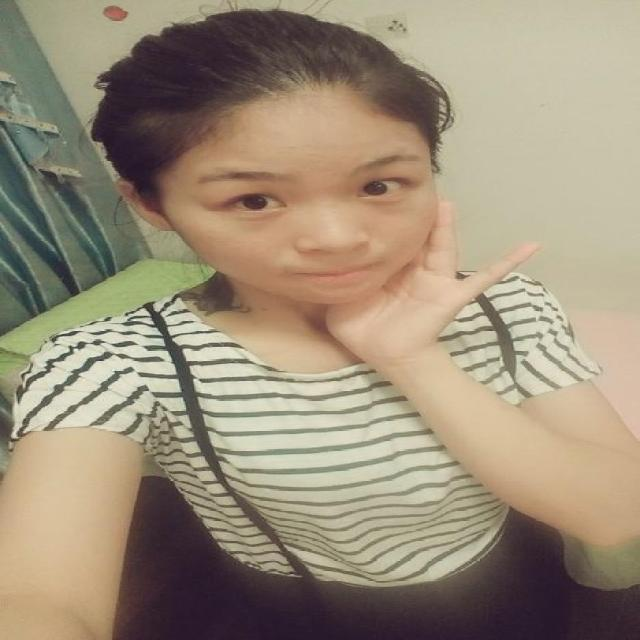short sleeve top: (8, 267, 604, 587)
sling dress: (144, 272, 574, 640)
